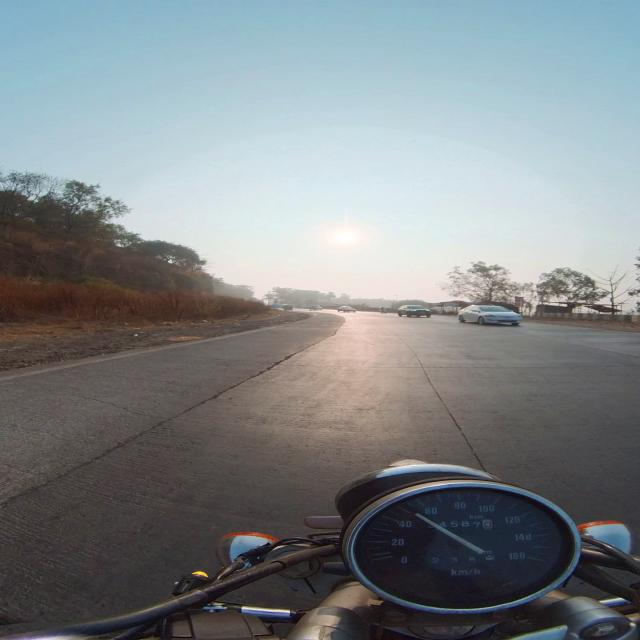car: (459, 305, 522, 325), (398, 305, 431, 317), (337, 306, 356, 312), (309, 305, 322, 310)
motorcycle: (11, 461, 639, 639)
